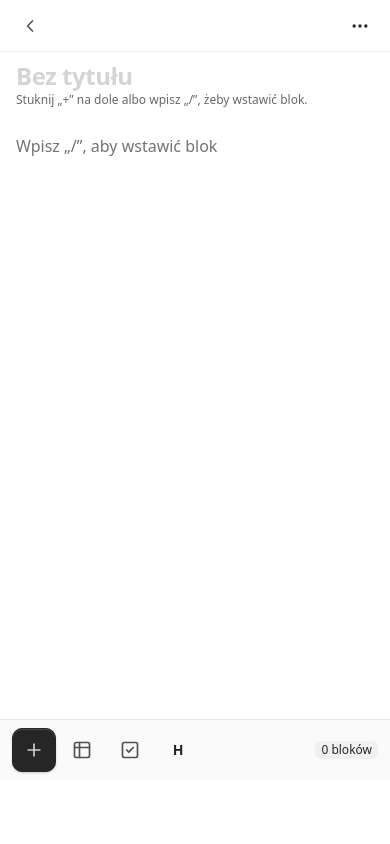
MEditor (telefon) › „+” otwiera arkusz „Wstaw blok” z 5 pozycjami i zamyka go krzyżykiem
Expected: the dialog "Wstaw blok" is not shown
Pierwszy przycisk to „+” z linii poleceń weba, ostatni to „+” paska telefonu
Click the button named "Wstaw blok". click: coordinates (34, 750)
box: x1=12 y1=728 x2=56 y2=772
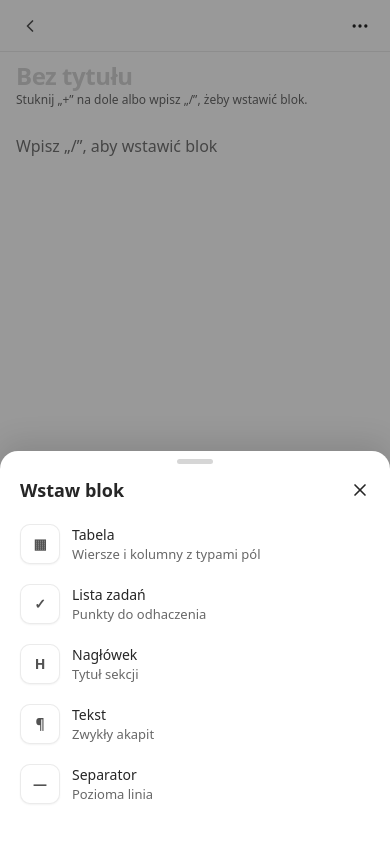
Result: the text "Tabela" is shown at x1=72 y1=525 x2=114 y2=544
Result: the text "Lista zadań" is shown at x1=72 y1=585 x2=146 y2=604
Result: the text "Nagłówek" is shown at x1=72 y1=644 x2=138 y2=665
Click the button named "Zamknij". click: coordinates (360, 490)
box: x1=338 y1=468 x2=382 y2=512
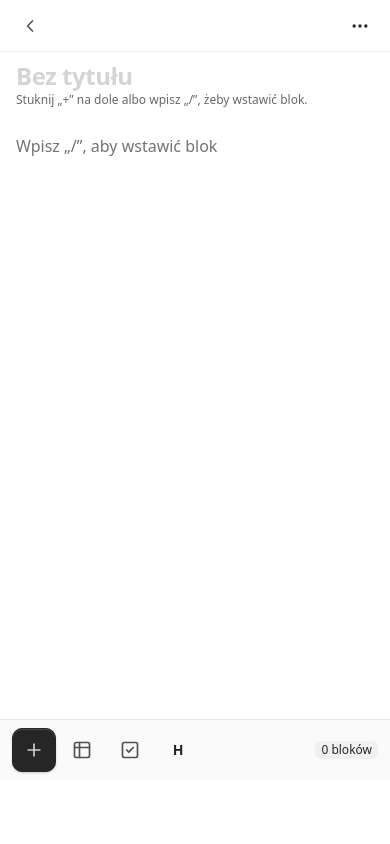
Result: the heading "Wstaw blok" is gone
